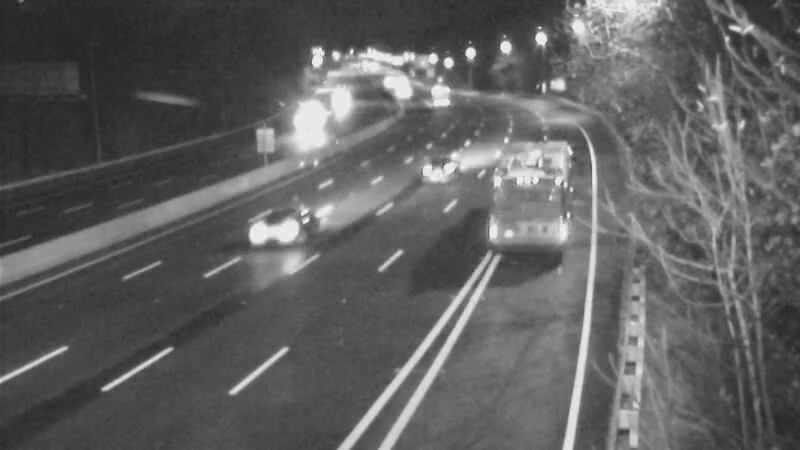vehicle: (486, 141, 566, 221), (402, 127, 482, 207), (226, 191, 306, 271), (376, 66, 426, 116), (413, 65, 463, 115), (276, 99, 326, 149), (315, 69, 365, 119)
